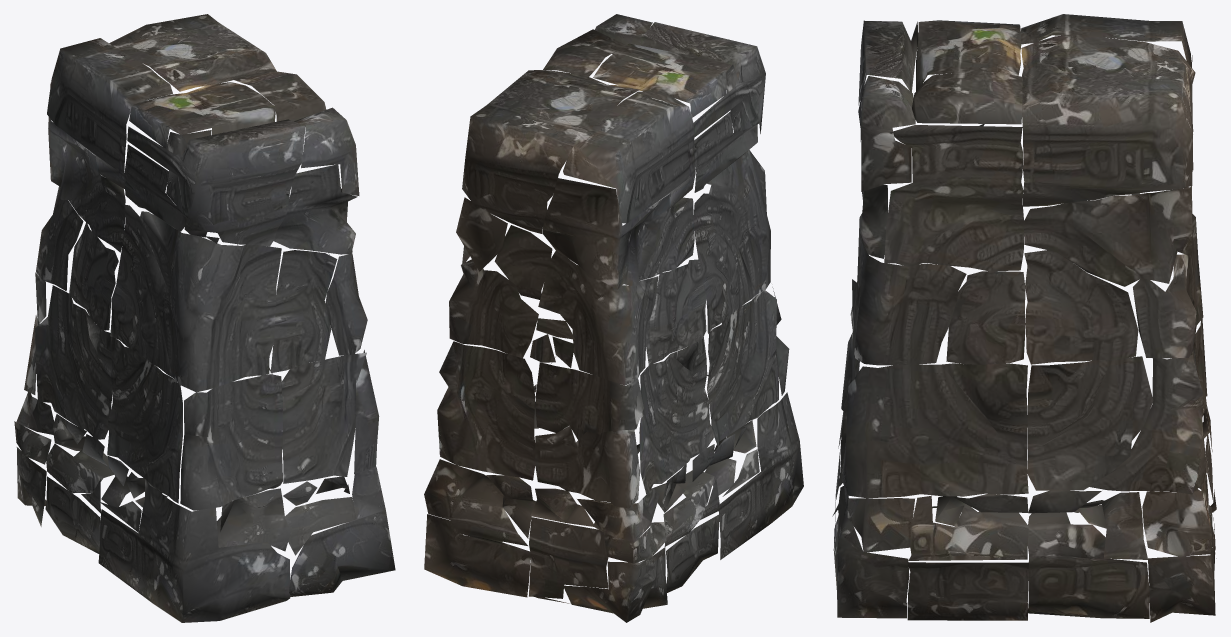
File: ruin_pillar_vaelor_LOD3.glb
3 views of the same model, side by side, from view 1: azimuth 30°, elevation 25°; view 2: azimuth 150°, elevation 25°; view 3: azimuth 270°, elevation 25° (orthographic). The views are drawn at different scales.
Parts seen in each view (by area): view 1: tripo_node_f299f018-ef50-4f2a-830b-34e6a2a2bba3; view 2: tripo_node_f299f018-ef50-4f2a-830b-34e6a2a2bba3; view 3: tripo_node_f299f018-ef50-4f2a-830b-34e6a2a2bba3.
Part boxes in pixels (bbox=[...]): tripo_node_f299f018-ef50-4f2a-830b-34e6a2a2bba3: bbox=[14, 14, 395, 622]; tripo_node_f299f018-ef50-4f2a-830b-34e6a2a2bba3: bbox=[424, 14, 803, 622]; tripo_node_f299f018-ef50-4f2a-830b-34e6a2a2bba3: bbox=[832, 14, 1216, 622].
Size of the model in its own units: 0.4936 by 1 by 0.6743.
1 material, 1 textured.
